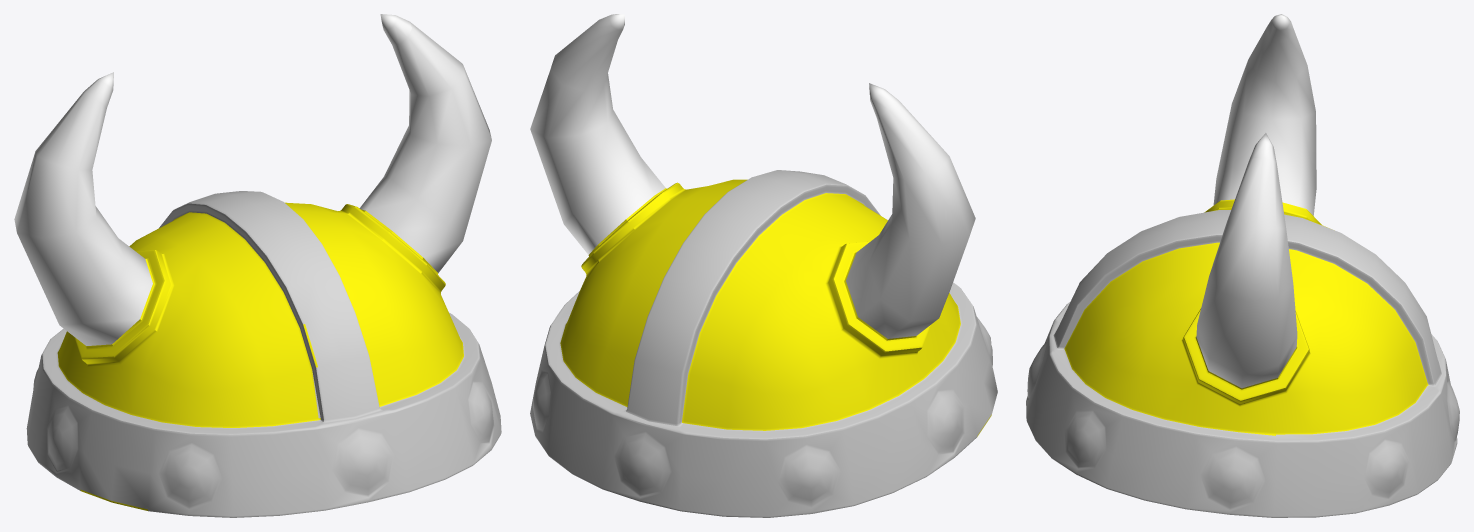
File: Viking_Helmet.fbx
3 views of the same model, side by side, from view 1: azimuth 30°, elevation 25°; view 2: azimuth 150°, elevation 25°; view 3: azimuth 270°, elevation 25° (orthographic). The views are drawn at different scales.
Visible parts, largest first — view 1: Viking_Helmet; view 2: Viking_Helmet; view 3: Viking_Helmet.
Part boxes in pixels (bbox=[...]): Viking_Helmet: bbox=[14, 14, 501, 517]; Viking_Helmet: bbox=[530, 14, 997, 517]; Viking_Helmet: bbox=[1026, 14, 1459, 517].
Size of the model in its own units: 452 by 372 by 399.
